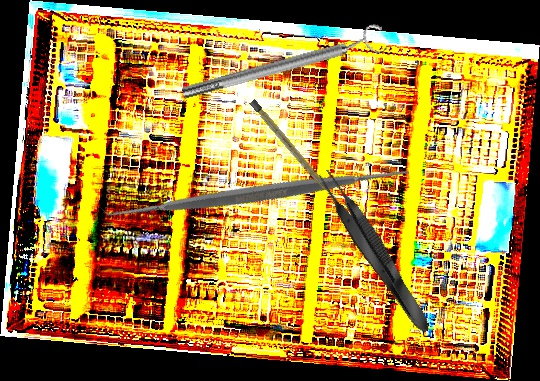Fixation Ring: (178, 21, 389, 108)
Scalpel Handle: (249, 99, 331, 194)
Spatula Surgical: (91, 27, 424, 359)
Tissue Forceps: (312, 165, 437, 339)
